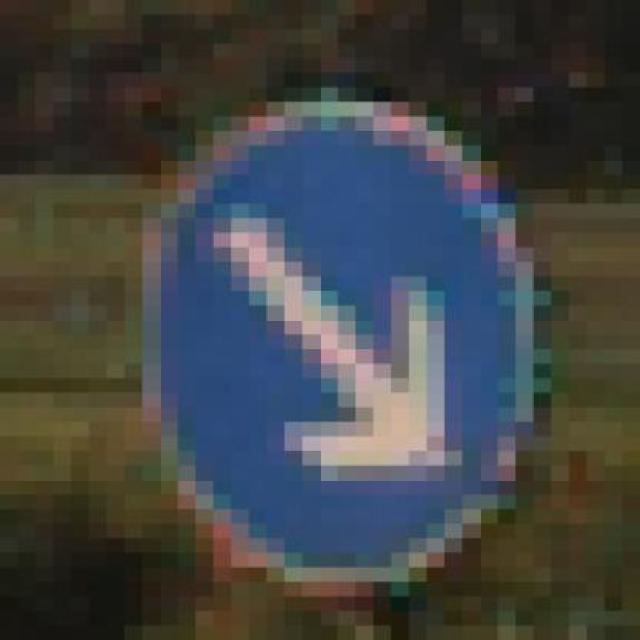Keep-Right: (107, 72, 551, 611)
